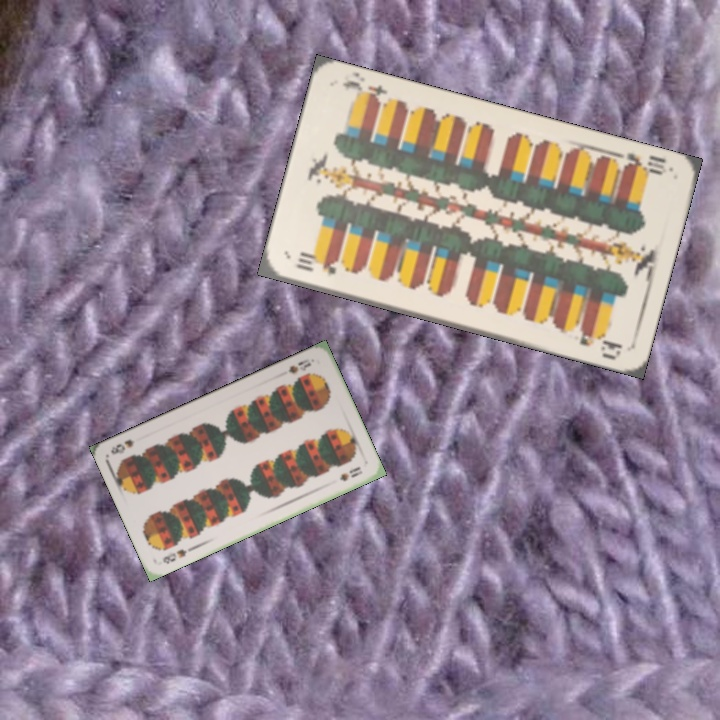E10: (615, 148, 673, 178), (292, 250, 339, 278)
S8: (158, 545, 189, 567), (284, 355, 314, 376)
